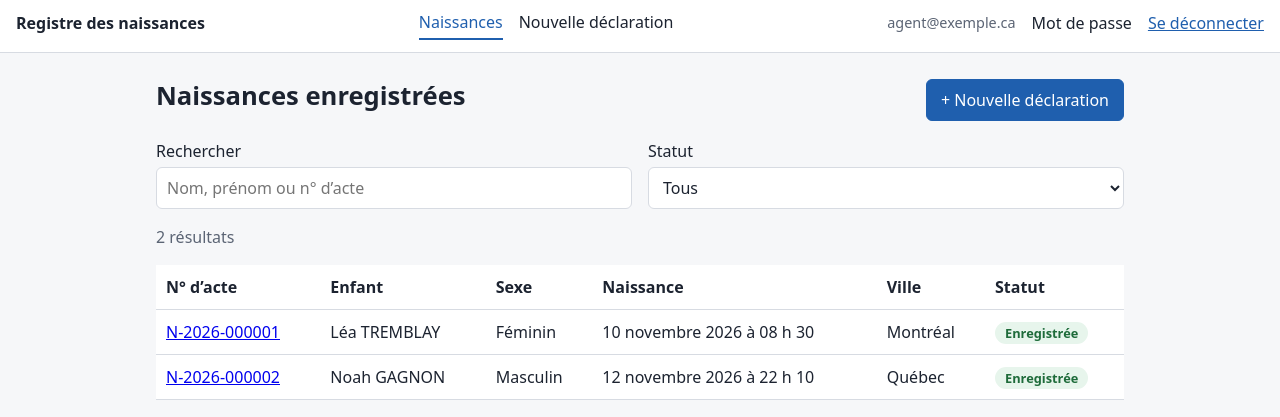
Test case: Liste des naissances › filtre via la recherche (debounce) et reflète la recherche dans l’URL
expect the table is shown: met, box [156,265,1124,400]
Type "noah" into the search field labelled "Rechercher" at (394, 188), box [156,167,632,209]
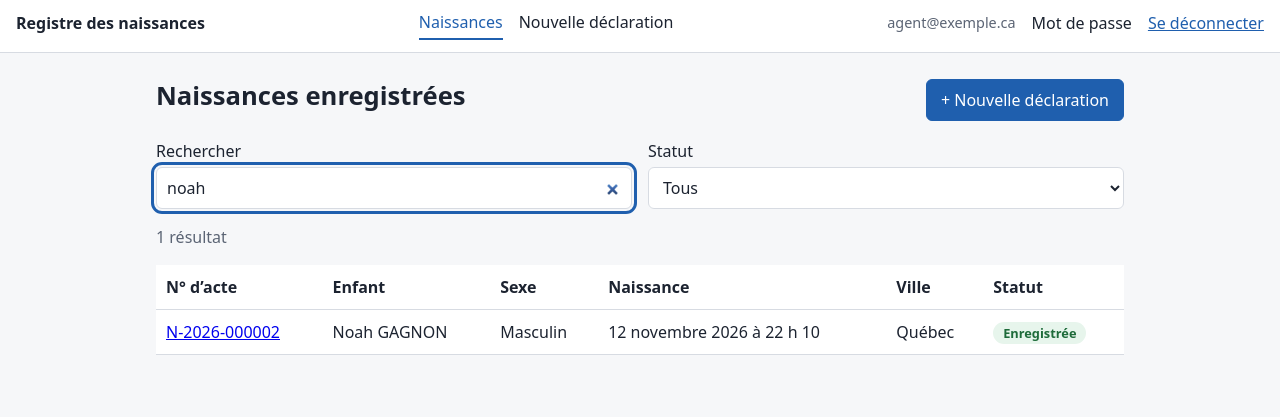
expect the text "Noah GAGNON" is shown: met, box [322,310,490,355]
expect the text "Léa TREMBLAY" is gone: met
